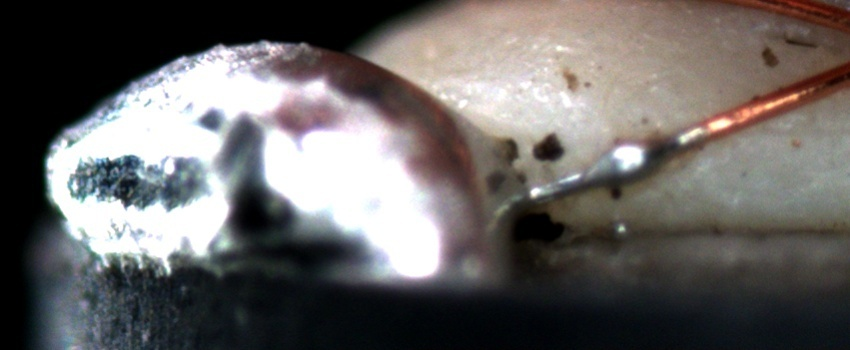DL: (752, 103, 849, 160)
TB: (592, 131, 664, 187)
TS: (528, 125, 707, 205)
TTCW: (519, 102, 763, 213)
